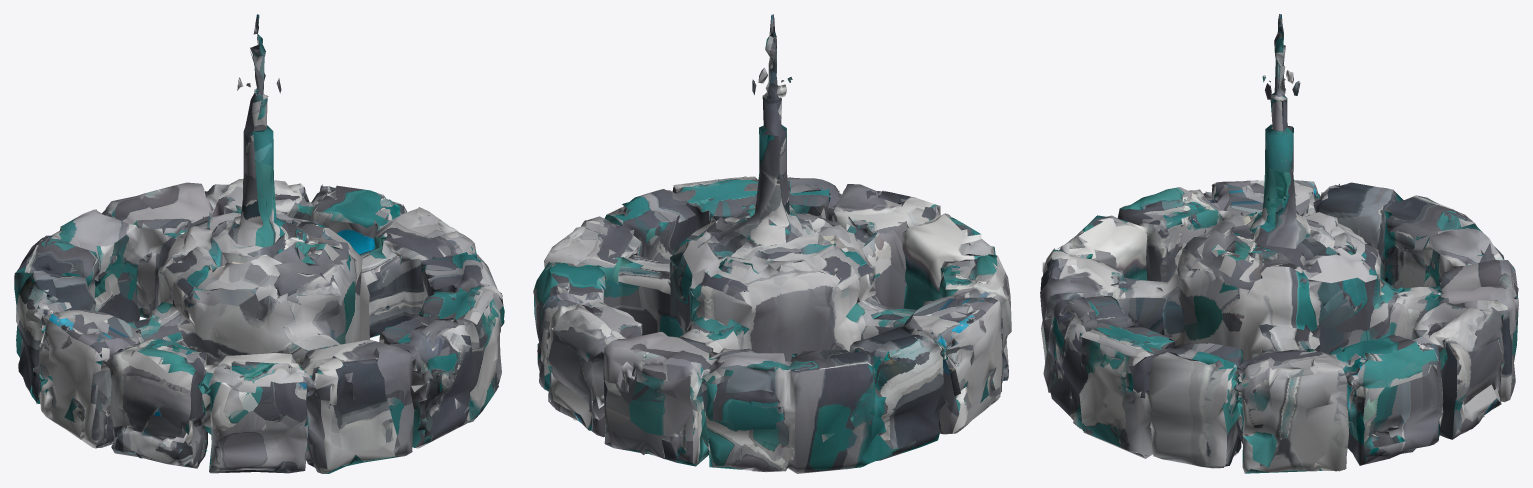
The model's file is SM_Core_tex1.fbx.
3 renders of one model, left to right at view 1: azimuth 30°, elevation 25°; view 2: azimuth 150°, elevation 25°; view 3: azimuth 270°, elevation 25°, orthographic.
Parts seen in each view (by area): view 1: SMT_Core; view 2: SMT_Core; view 3: SMT_Core.
Boxes of the visible parts, x1=… form: SMT_Core: x1=14, y1=14, x2=504, y2=473; SMT_Core: x1=533, y1=14, x2=1011, y2=473; SMT_Core: x1=1040, y1=14, x2=1518, y2=473.
Size of the model in its own units: 0.9397 by 0.813 by 0.9447.
